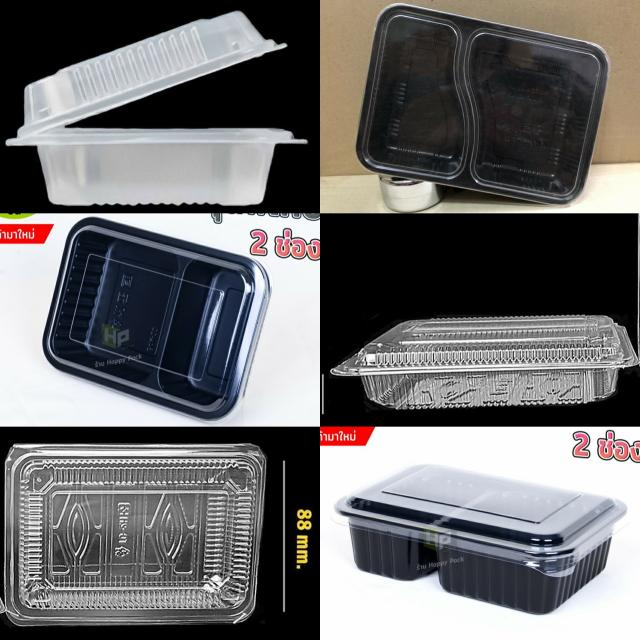Single-Use-Plastic: (6, 11, 308, 206), (357, 4, 609, 203), (5, 445, 265, 625), (43, 218, 270, 419), (335, 465, 627, 613), (330, 315, 638, 410)
